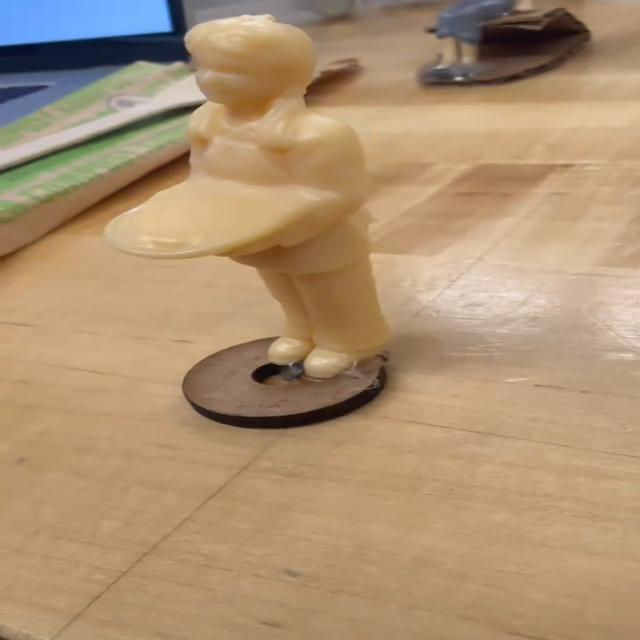Unauthorized: (62, 8, 438, 379)
